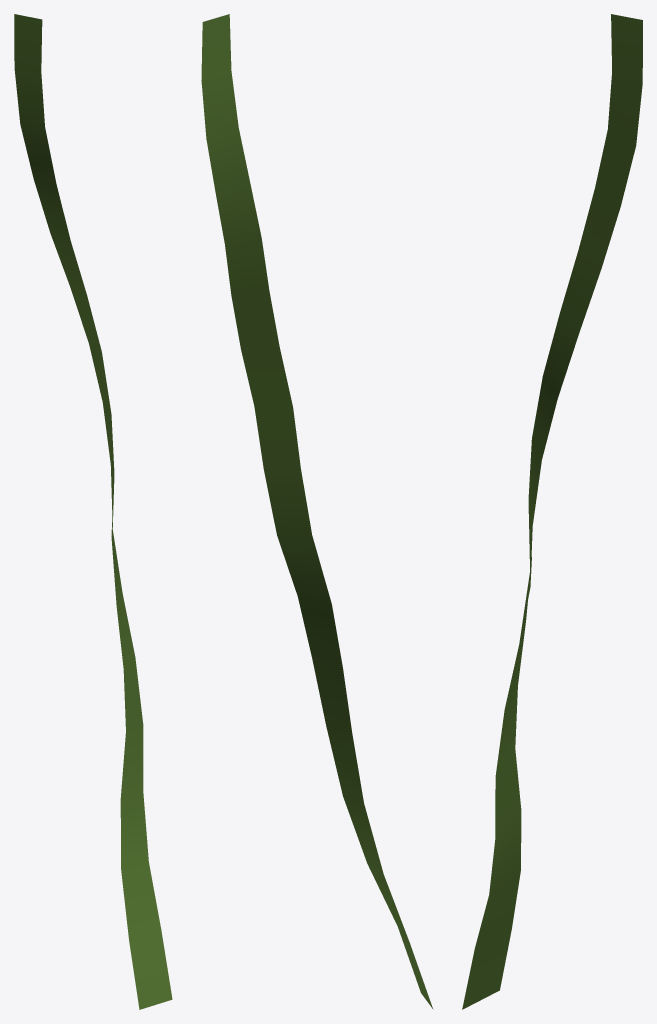
File: plant_swamp_kelp_long_solo_Y.fbx
3 views of the same model, side by side, from view 1: azimuth 90°, elevation 25°; view 2: azimuth 150°, elevation 25°; view 3: azimuth 270°, elevation 25° (orthographic). The views are drawn at different scales.
Parts seen in each view (by area): view 1: plant_swamp_kelp_long_solo_Y; view 2: plant_swamp_kelp_long_solo_Y; view 3: plant_swamp_kelp_long_solo_Y.
Part boxes in pixels (x1=…): plant_swamp_kelp_long_solo_Y: x1=14, y1=14, x2=172, y2=1009; plant_swamp_kelp_long_solo_Y: x1=201, y1=14, x2=433, y2=1009; plant_swamp_kelp_long_solo_Y: x1=462, y1=14, x2=642, y2=1009.
Bounding box in the file's own units: 31.75 × 184 × 28.47.
